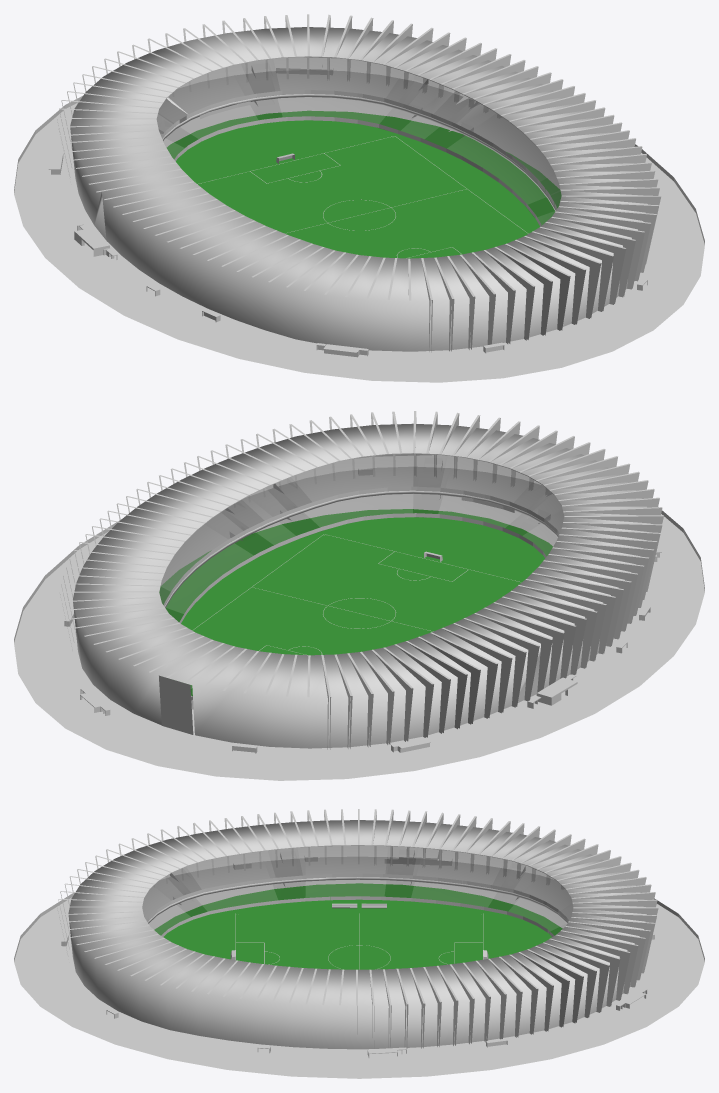
Rendered from mineirao_2.glb.
3 renders of one model, top to bottom at view 1: azimuth 30°, elevation 25°; view 2: azimuth 150°, elevation 25°; view 3: azimuth 270°, elevation 25°, orthographic. The views are drawn at different scales.
Parts seen in each view (by area): view 1: Mineirao, Campo; view 2: Mineirao, Campo; view 3: Mineirao.
Boxes of the visible parts, x1,y1,x2,y2 form: Mineirao: (14, 14, 704, 382); Campo: (197, 136, 528, 258); Mineirao: (14, 411, 704, 780); Campo: (192, 534, 520, 655); Mineirao: (14, 809, 704, 1078).
Size of the model in its own units: 261 by 28.14 by 326.
